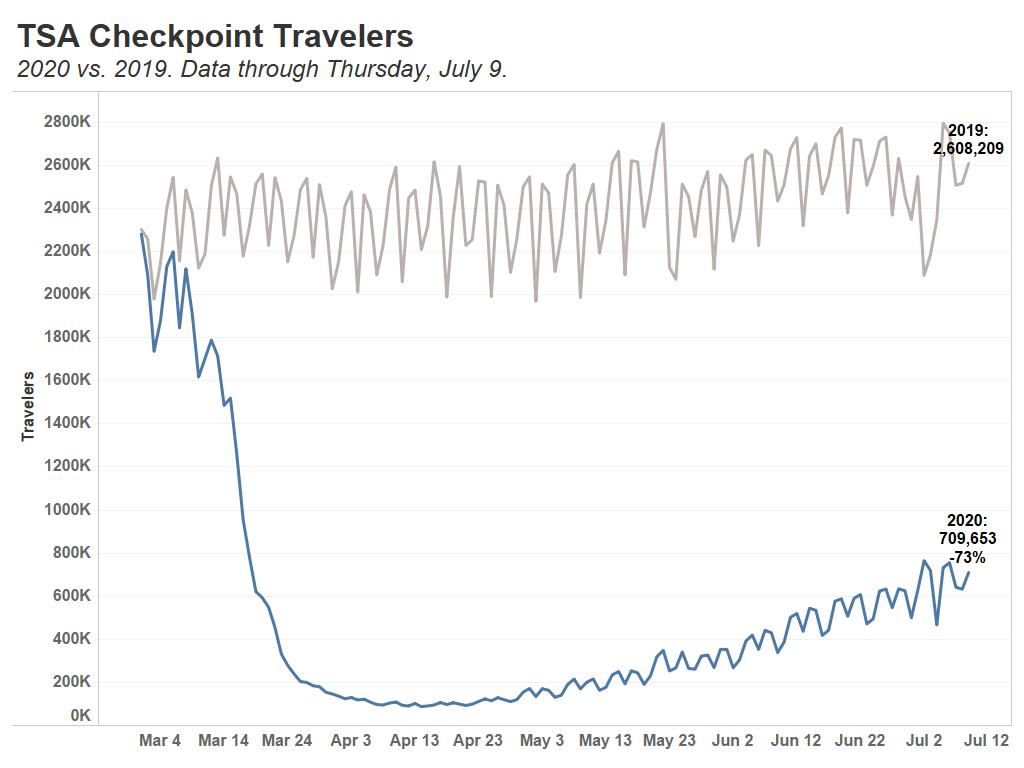

The dashboard page shown, as its layout file describes it:
{"tool":"tableau","page":{"name":"TSA Travelers","canvas":[1024,768],"ordinal":3},"visuals":[{"type":"worksheet","box":[0,0,1024,768]},{"type":"worksheet","title":"Travelers","mark":"Automatic","rows":["2019","2020"],"cols":["Date"],"box":[8,8,1008,752]}]}

Visuals, with their boxes in screenshot pixels (x1, y1, x2, y2), scaled from the page's 1024x768 canvas onto the 1024x768 screenshot:
worksheet: bbox=(0, 0, 1023, 767)
"Travelers" worksheet: bbox=(8, 8, 1016, 760)
